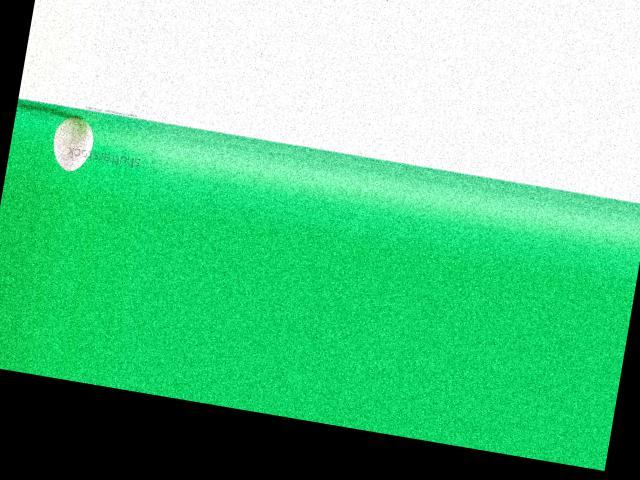egg: (48, 112, 96, 173)
